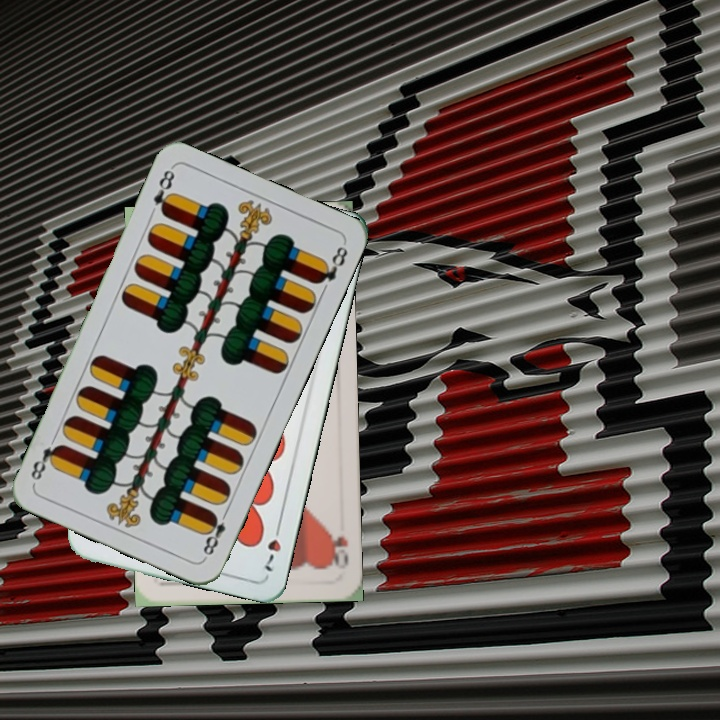E8: (198, 505, 231, 561), (149, 165, 178, 218)
H7: (261, 518, 284, 574)
HO: (326, 529, 351, 571)
